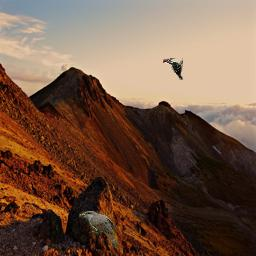Cuckoo: (79, 211, 119, 248)
Woodpecker: (163, 58, 183, 80)
